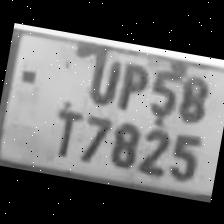2: (132, 119, 172, 178)
5: (140, 60, 184, 120), (162, 124, 206, 182)
7: (72, 106, 112, 166)
8: (172, 67, 214, 125), (105, 114, 144, 171)
P: (111, 54, 152, 112)
T: (42, 96, 85, 162)
U: (80, 44, 124, 105)
